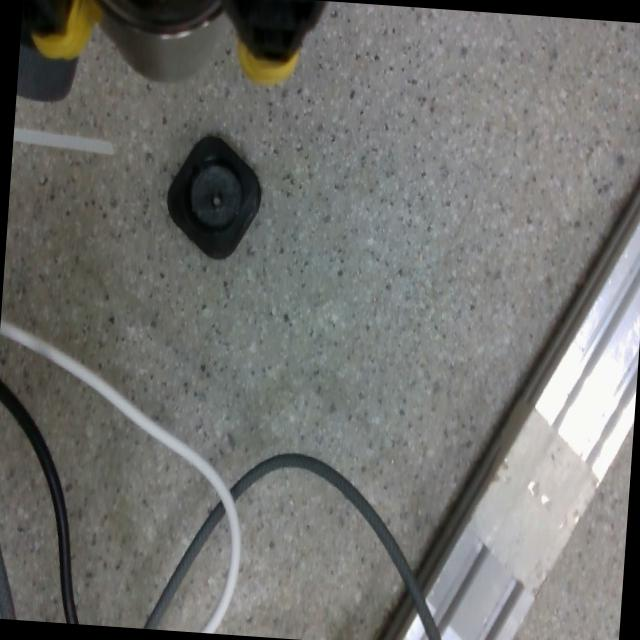cell: (163, 132, 266, 261)
